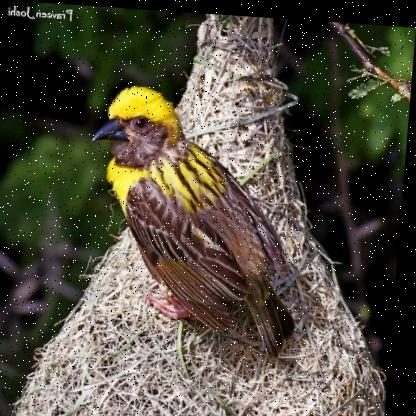Burung: (81, 82, 314, 356)
